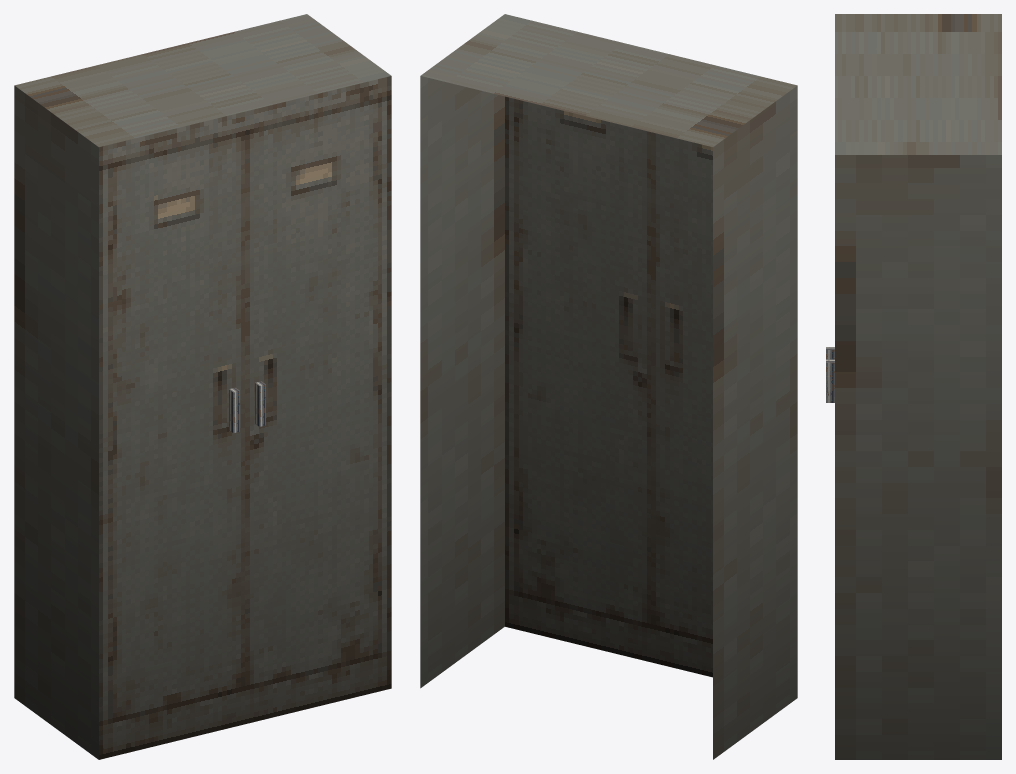
The model's file is prop_cabinet-0.glb.
The picture shows the model from 3 angles, left to right: view 1: azimuth 30°, elevation 25°; view 2: azimuth 150°, elevation 25°; view 3: azimuth 270°, elevation 25°; orthographic projection.
Parts seen in each view (by area): view 1: prop_cabinet-0; view 2: prop_cabinet-0; view 3: prop_cabinet-0.
Part boxes in pixels (x1,y1,x2,y2): prop_cabinet-0: [14, 14, 391, 759]; prop_cabinet-0: [420, 14, 797, 759]; prop_cabinet-0: [826, 14, 1001, 759].
Size of the model in its own units: 0.9 by 1.8 by 0.474.
Materials: 2 (2 with a texture image).
